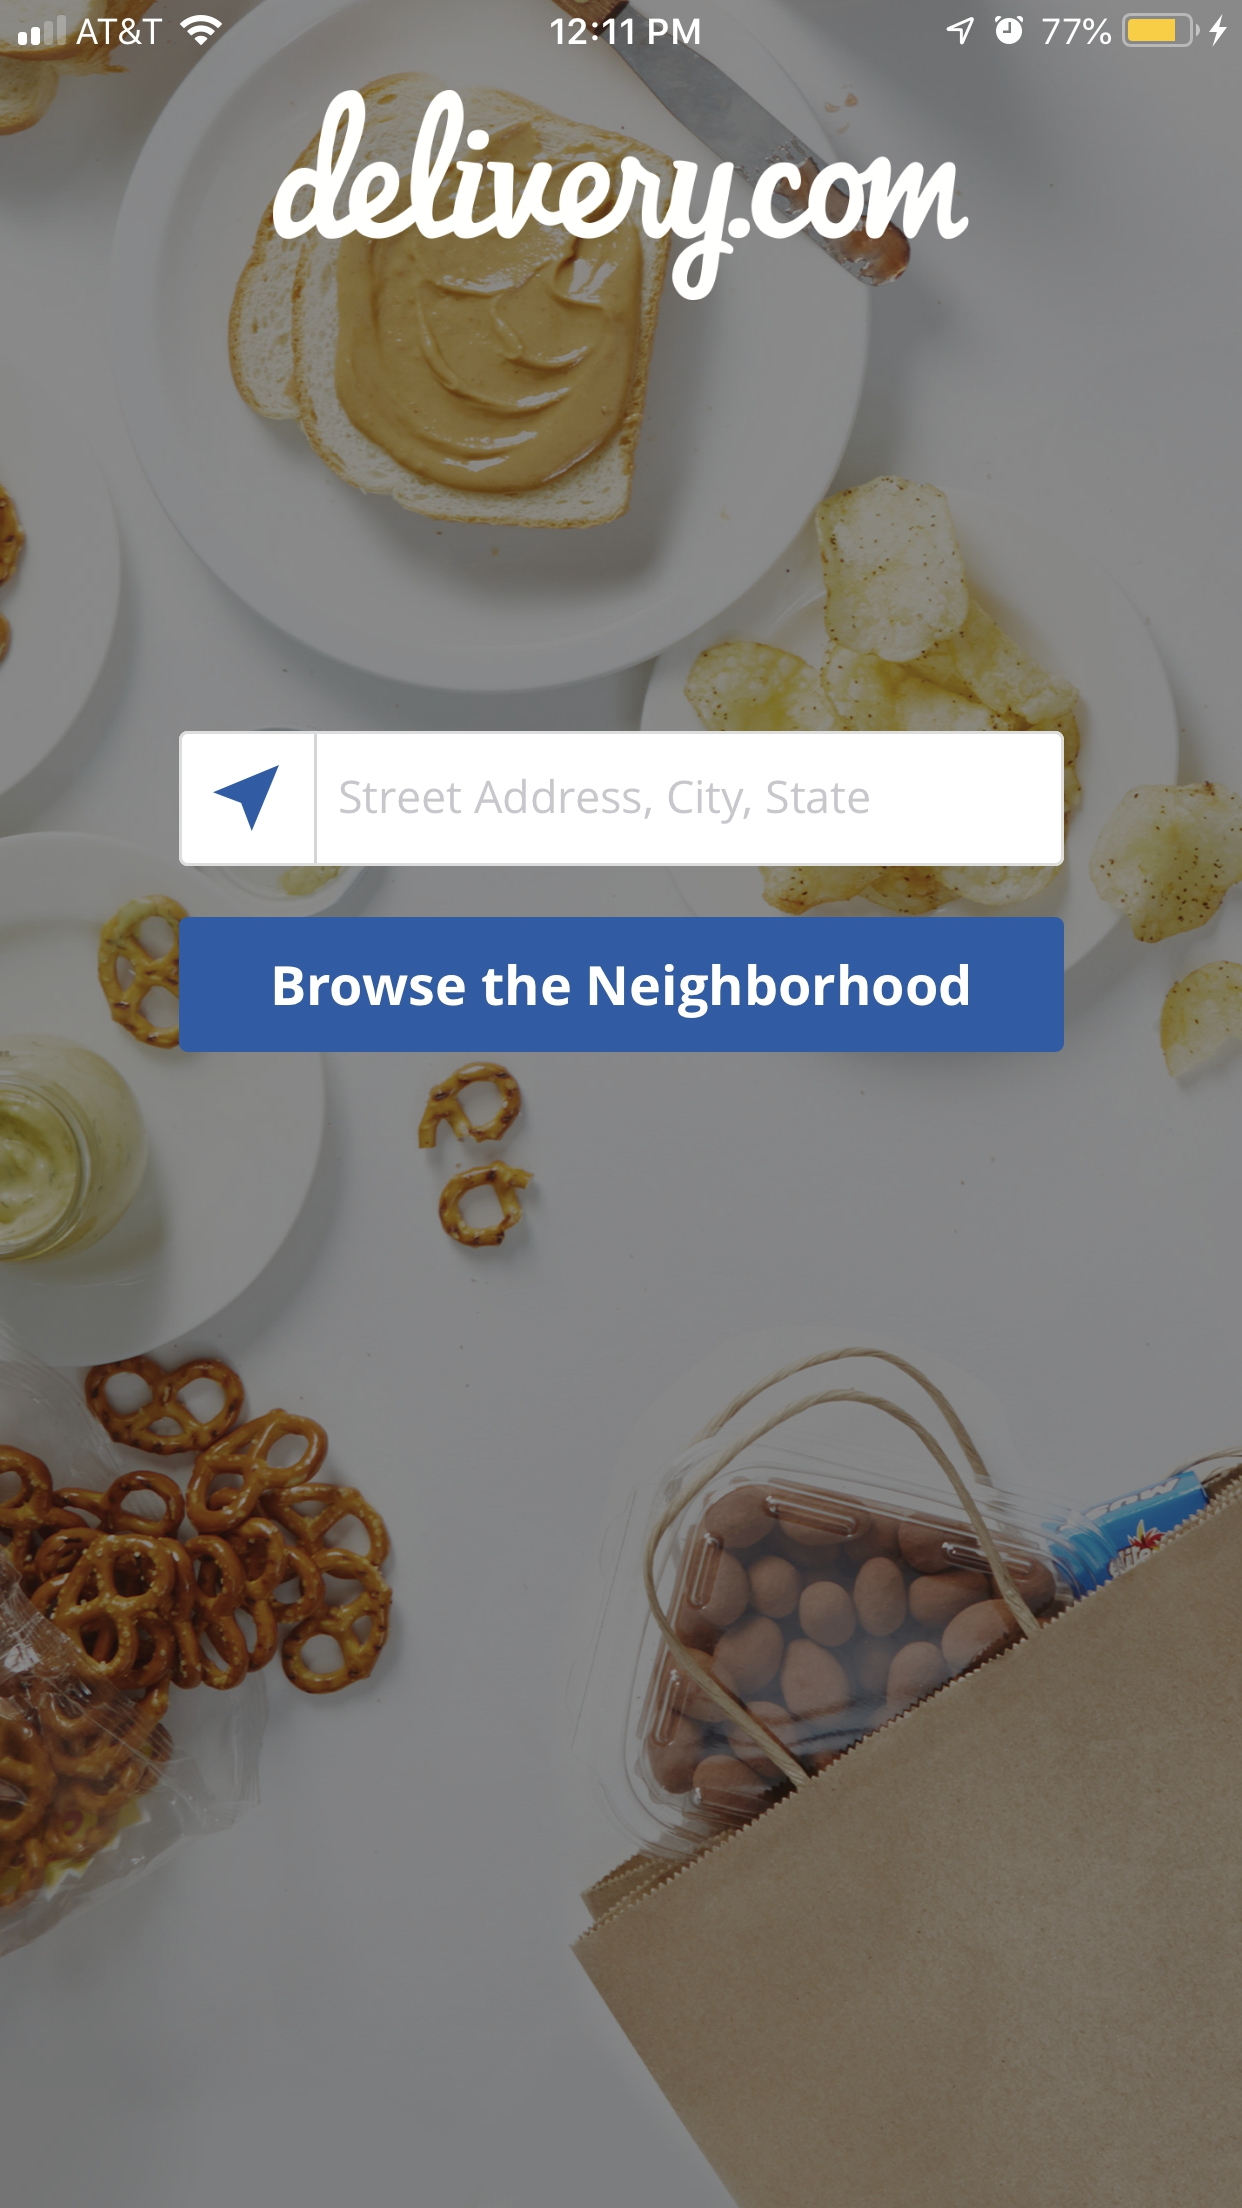BackgroundImage: (2, 2, 1242, 2208)
EditText: (179, 731, 1065, 867)
Icon: (212, 766, 281, 833)
Text: (271, 89, 971, 300), (340, 778, 870, 825)
TextButton: (180, 917, 1065, 1052)
UpperTaskBar: (2, 2, 1242, 49)
